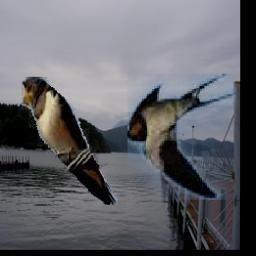Swallow: (128, 75, 237, 201), (20, 78, 119, 206)
